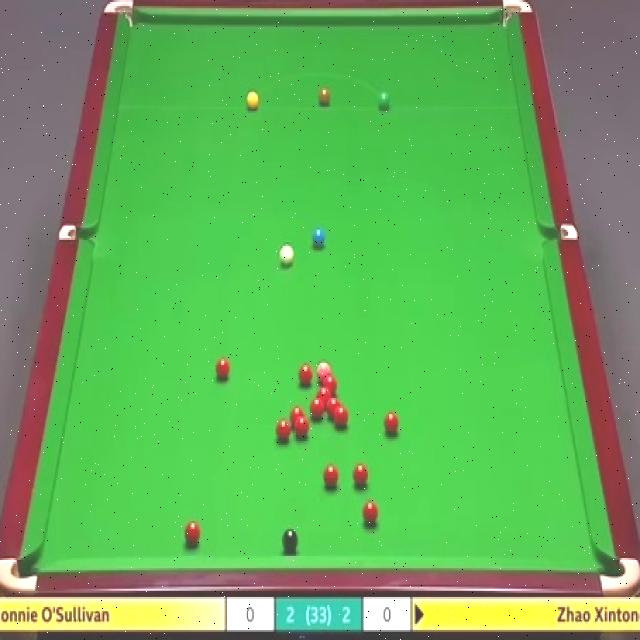black-ball: (282, 525, 298, 554)
blue-ball: (311, 226, 326, 251)
brown-ball: (318, 88, 330, 106)
green-ball: (378, 91, 390, 110)
pink-ball: (317, 361, 332, 376)
red-ball: (361, 500, 379, 528), (185, 520, 202, 546), (298, 362, 314, 388), (352, 464, 368, 487), (334, 404, 349, 428), (215, 356, 230, 380), (384, 413, 400, 435), (295, 416, 310, 438), (324, 465, 339, 487), (276, 419, 291, 440), (309, 398, 325, 417), (289, 404, 304, 422), (315, 386, 333, 400), (327, 398, 341, 416), (322, 376, 339, 388)
white-ball: (279, 242, 295, 266)
yellow-ball: (246, 89, 260, 111)
